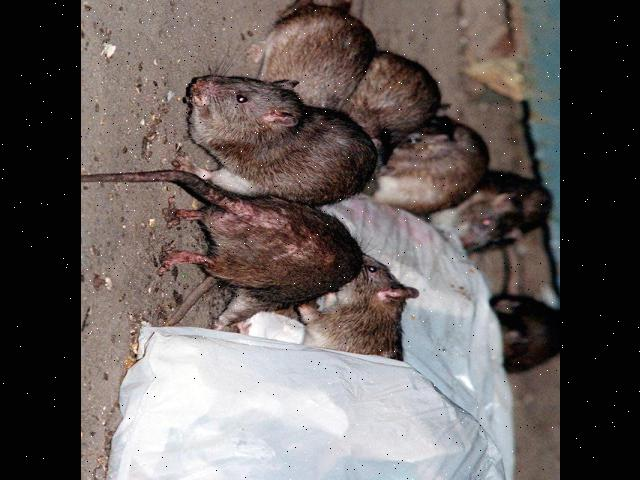Tikus: (155, 172, 363, 310), (186, 78, 380, 202), (299, 257, 415, 362), (264, 0, 379, 102), (428, 168, 550, 250), (346, 48, 440, 134), (496, 298, 560, 370)
